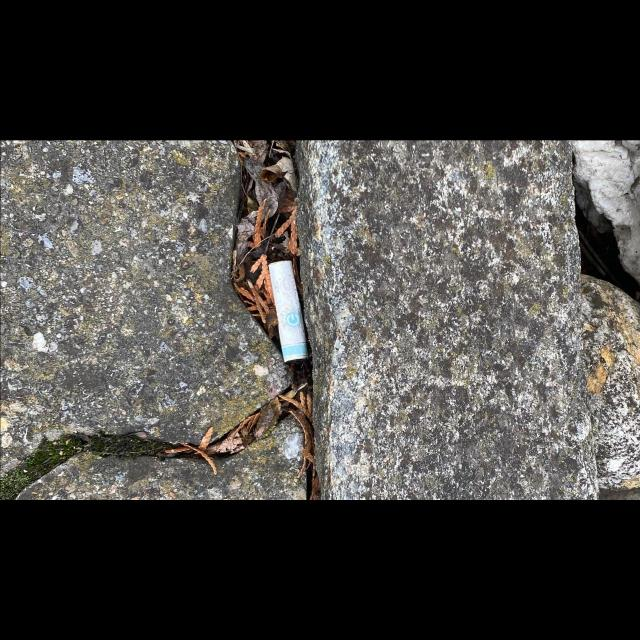cigarette: (266, 259, 310, 365)
